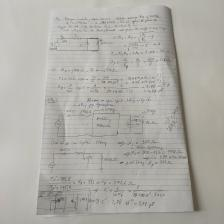Paper: (44, 3, 191, 209)
